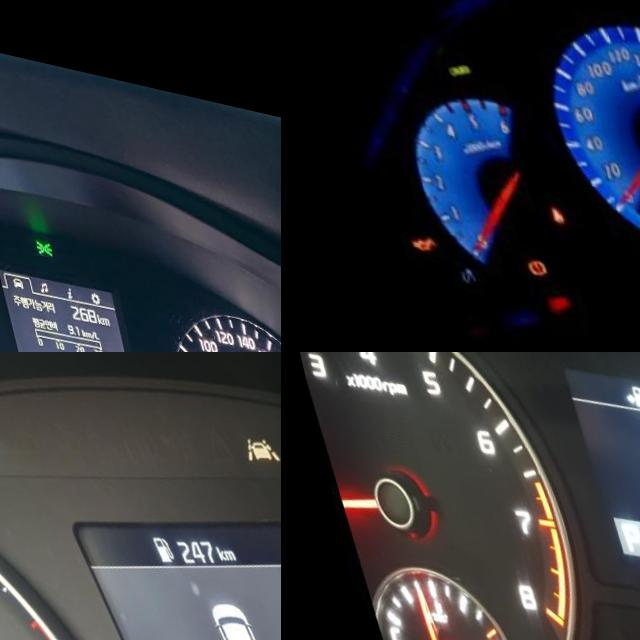LaneCenteringOff: (230, 409, 274, 447)
SideLamp: (25, 224, 44, 242)
